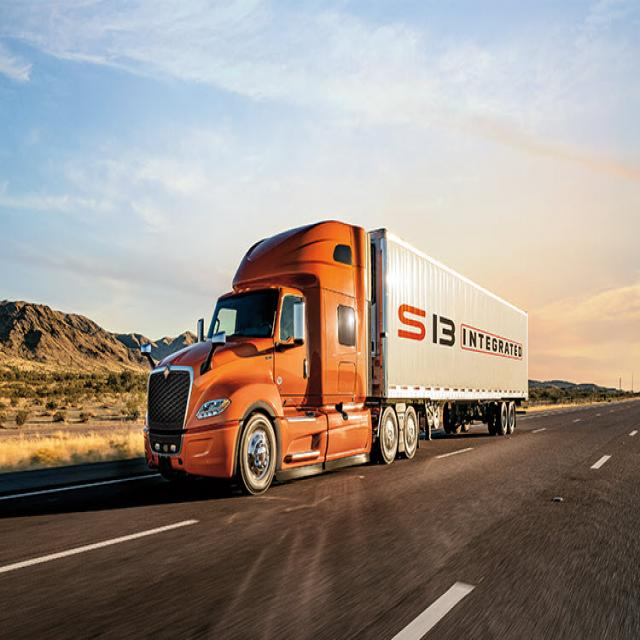truck: (155, 160, 538, 493)
